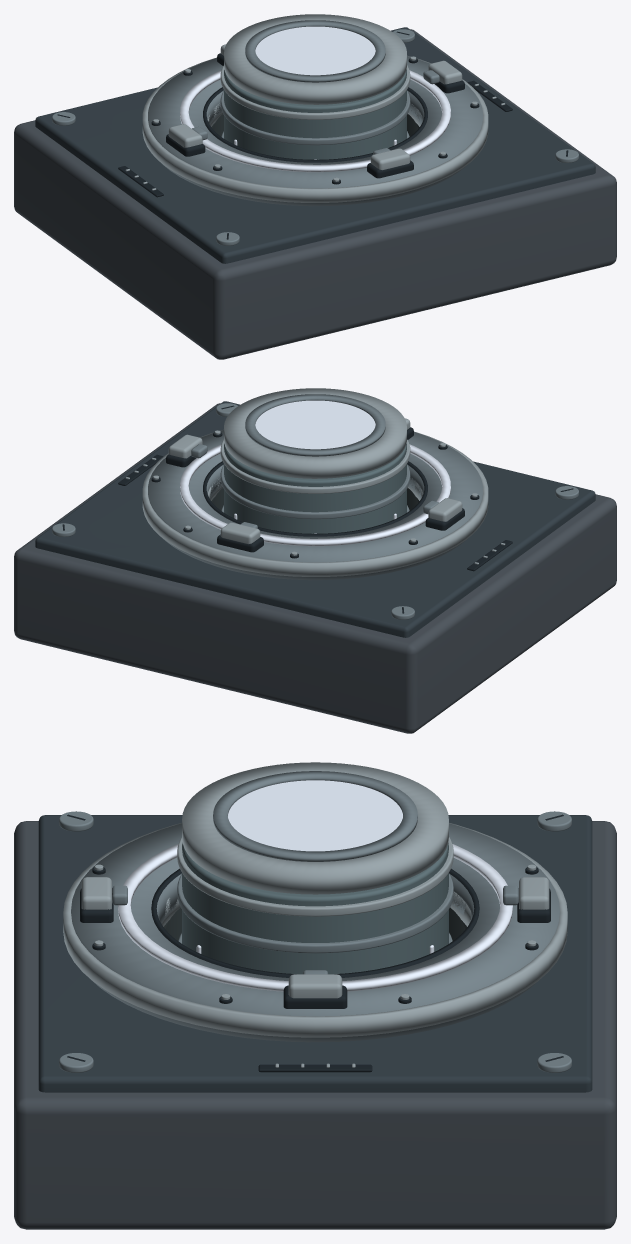
File: EnergyCellSocket_White.fbx
The picture shows the model from 3 angles, top to bottom: view 1: azimuth 30°, elevation 25°; view 2: azimuth 150°, elevation 25°; view 3: azimuth 270°, elevation 25°; orthographic projection. The views are drawn at different scales.
Parts seen in each view (by area): view 1: SOCKET_Housing_Main_Gunmetal, SOCKET_Front_Faceplate, SOCKET_Armored_Retainer_Bezel, CELL_Insert_Ceramic_Titanium_Body_Dia_0.92m, CELL_Front_Armored_End_Cap, SOCKET_Outer_Bezel_Machined_Border, CELL_Emissive_Core_Window, SOCKET_Indicator_Ring_Green_Emissive, CELL_Front_Cap_Retaining_Rim, CELL_Contact_Rib_05, CELL_Contact_Rib_04, SOCKET_Bezel_Inner_Dark_Inlay (+3 smaller); view 2: SOCKET_Housing_Main_Gunmetal, SOCKET_Front_Faceplate, SOCKET_Armored_Retainer_Bezel, CELL_Insert_Ceramic_Titanium_Body_Dia_0.92m, CELL_Front_Armored_End_Cap, SOCKET_Outer_Bezel_Machined_Border, CELL_Emissive_Core_Window, SOCKET_Indicator_Ring_Green_Emissive, CELL_Front_Cap_Retaining_Rim, CELL_Contact_Rib_05, CELL_Contact_Rib_04, SOCKET_Bezel_Inner_Dark_Inlay (+3 smaller); view 3: SOCKET_Housing_Main_Gunmetal, SOCKET_Front_Faceplate, SOCKET_Armored_Retainer_Bezel, CELL_Insert_Ceramic_Titanium_Body_Dia_0.92m, CELL_Front_Armored_End_Cap, SOCKET_Outer_Bezel_Machined_Border, CELL_Emissive_Core_Window, SOCKET_Indicator_Ring_Green_Emissive, CELL_Front_Cap_Retaining_Rim, CELL_Contact_Rib_05, CELL_Contact_Rib_04, SOCKET_Bezel_Inner_Dark_Inlay (+6 smaller).
Part boxes in pixels (x1,y1,x2,y2): SOCKET_Housing_Main_Gunmetal: [14, 29, 616, 359]; SOCKET_Front_Faceplate: [35, 27, 595, 263]; SOCKET_Armored_Retainer_Bezel: [148, 56, 482, 206]; CELL_Insert_Ceramic_Titanium_Body_Dia_0.92m: [224, 69, 406, 159]; CELL_Front_Armored_End_Cap: [224, 14, 406, 104]; SOCKET_Outer_Bezel_Machined_Border: [142, 55, 488, 202]; CELL_Emissive_Core_Window: [255, 26, 375, 75]; SOCKET_Indicator_Ring_Green_Emissive: [180, 70, 450, 172]; CELL_Front_Cap_Retaining_Rim: [245, 20, 385, 82]; CELL_Contact_Rib_05: [220, 65, 410, 119]; CELL_Contact_Rib_04: [220, 90, 410, 145]; SOCKET_Bezel_Inner_Dark_Inlay: [203, 87, 427, 162]; SOCKET_Housing_Main_Gunmetal: [14, 403, 616, 733]; SOCKET_Front_Faceplate: [35, 401, 595, 637]; SOCKET_Armored_Retainer_Bezel: [148, 430, 482, 580]; CELL_Insert_Ceramic_Titanium_Body_Dia_0.92m: [224, 443, 406, 533]; CELL_Front_Armored_End_Cap: [224, 388, 406, 478]; SOCKET_Outer_Bezel_Machined_Border: [142, 429, 488, 576]; CELL_Emissive_Core_Window: [255, 400, 375, 449]; SOCKET_Indicator_Ring_Green_Emissive: [180, 444, 450, 546]; CELL_Front_Cap_Retaining_Rim: [245, 394, 385, 456]; CELL_Contact_Rib_05: [220, 439, 410, 493]; CELL_Contact_Rib_04: [220, 464, 410, 519]; SOCKET_Bezel_Inner_Dark_Inlay: [203, 461, 427, 536]; SOCKET_Housing_Main_Gunmetal: [14, 821, 616, 1229]; SOCKET_Front_Faceplate: [38, 815, 592, 1092]; SOCKET_Armored_Retainer_Bezel: [71, 823, 559, 1042]; CELL_Insert_Ceramic_Titanium_Body_Dia_0.92m: [182, 843, 448, 974]; CELL_Front_Armored_End_Cap: [182, 762, 448, 894]; SOCKET_Outer_Bezel_Machined_Border: [63, 823, 567, 1037]; CELL_Emissive_Core_Window: [228, 780, 402, 851]; SOCKET_Indicator_Ring_Green_Emissive: [118, 844, 512, 991]; CELL_Front_Cap_Retaining_Rim: [213, 771, 417, 861]; CELL_Contact_Rib_05: [177, 837, 453, 916]; CELL_Contact_Rib_04: [177, 874, 453, 953]; SOCKET_Bezel_Inner_Dark_Inlay: [151, 868, 479, 977].
Bounding box in the file's own units: 2.34 × 1.05 × 2.08.
